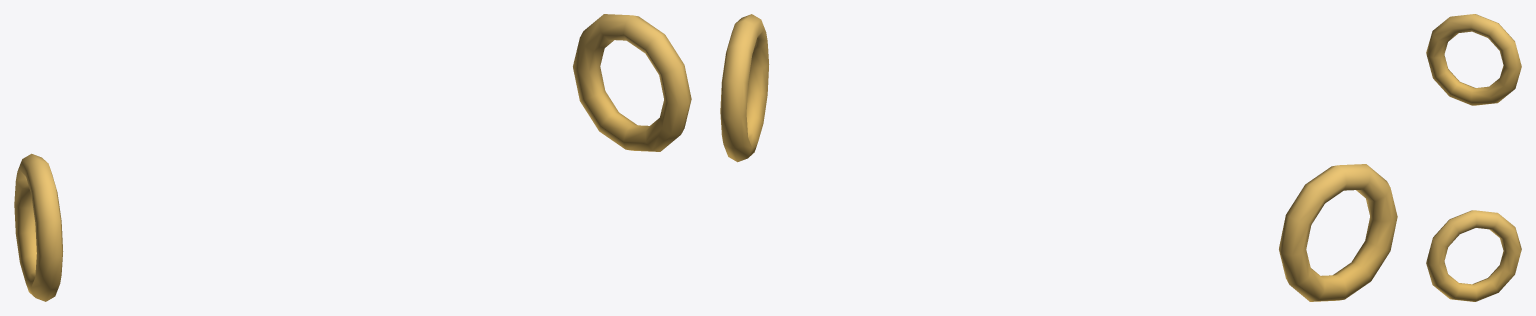
File: Earring_9.fbx
3 renders of one model, left to right at view 1: azimuth 30°, elevation 25°; view 2: azimuth 150°, elevation 25°; view 3: azimuth 270°, elevation 25°, orthographic. The views are drawn at different scales.
Parts seen in each view (by area): view 1: Earring_9; view 2: Earring_9; view 3: Earring_9.
Part boxes in pixels (<box>): Earring_9: <box>14,14,691,301</box>; Earring_9: <box>720,14,1397,301</box>; Earring_9: <box>1426,14,1521,301</box>.
Size of the model in its own units: 53.26 by 10.62 by 10.04.
